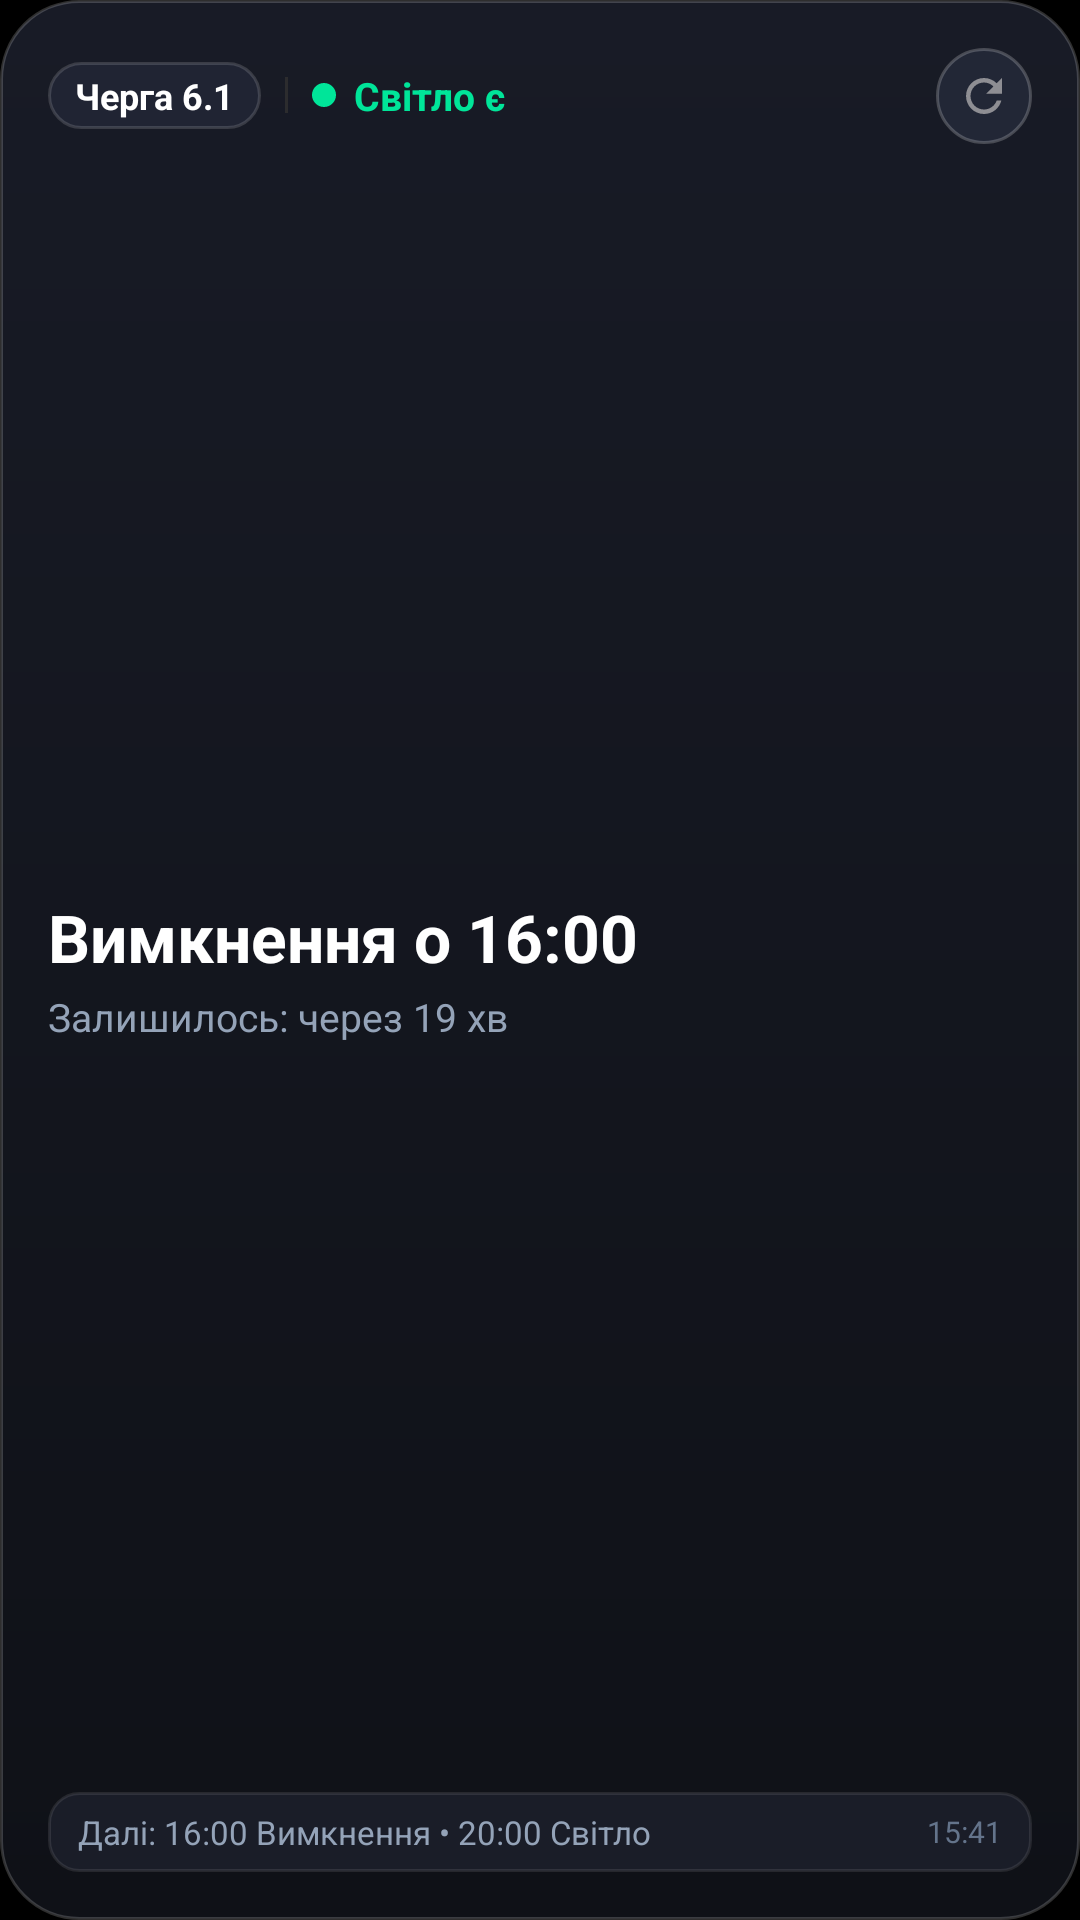

Point at icon controls on the screen. Image size 1080x1920, points as [x,y].
widget dot on: [324,95]
Оновити: [984,96]
